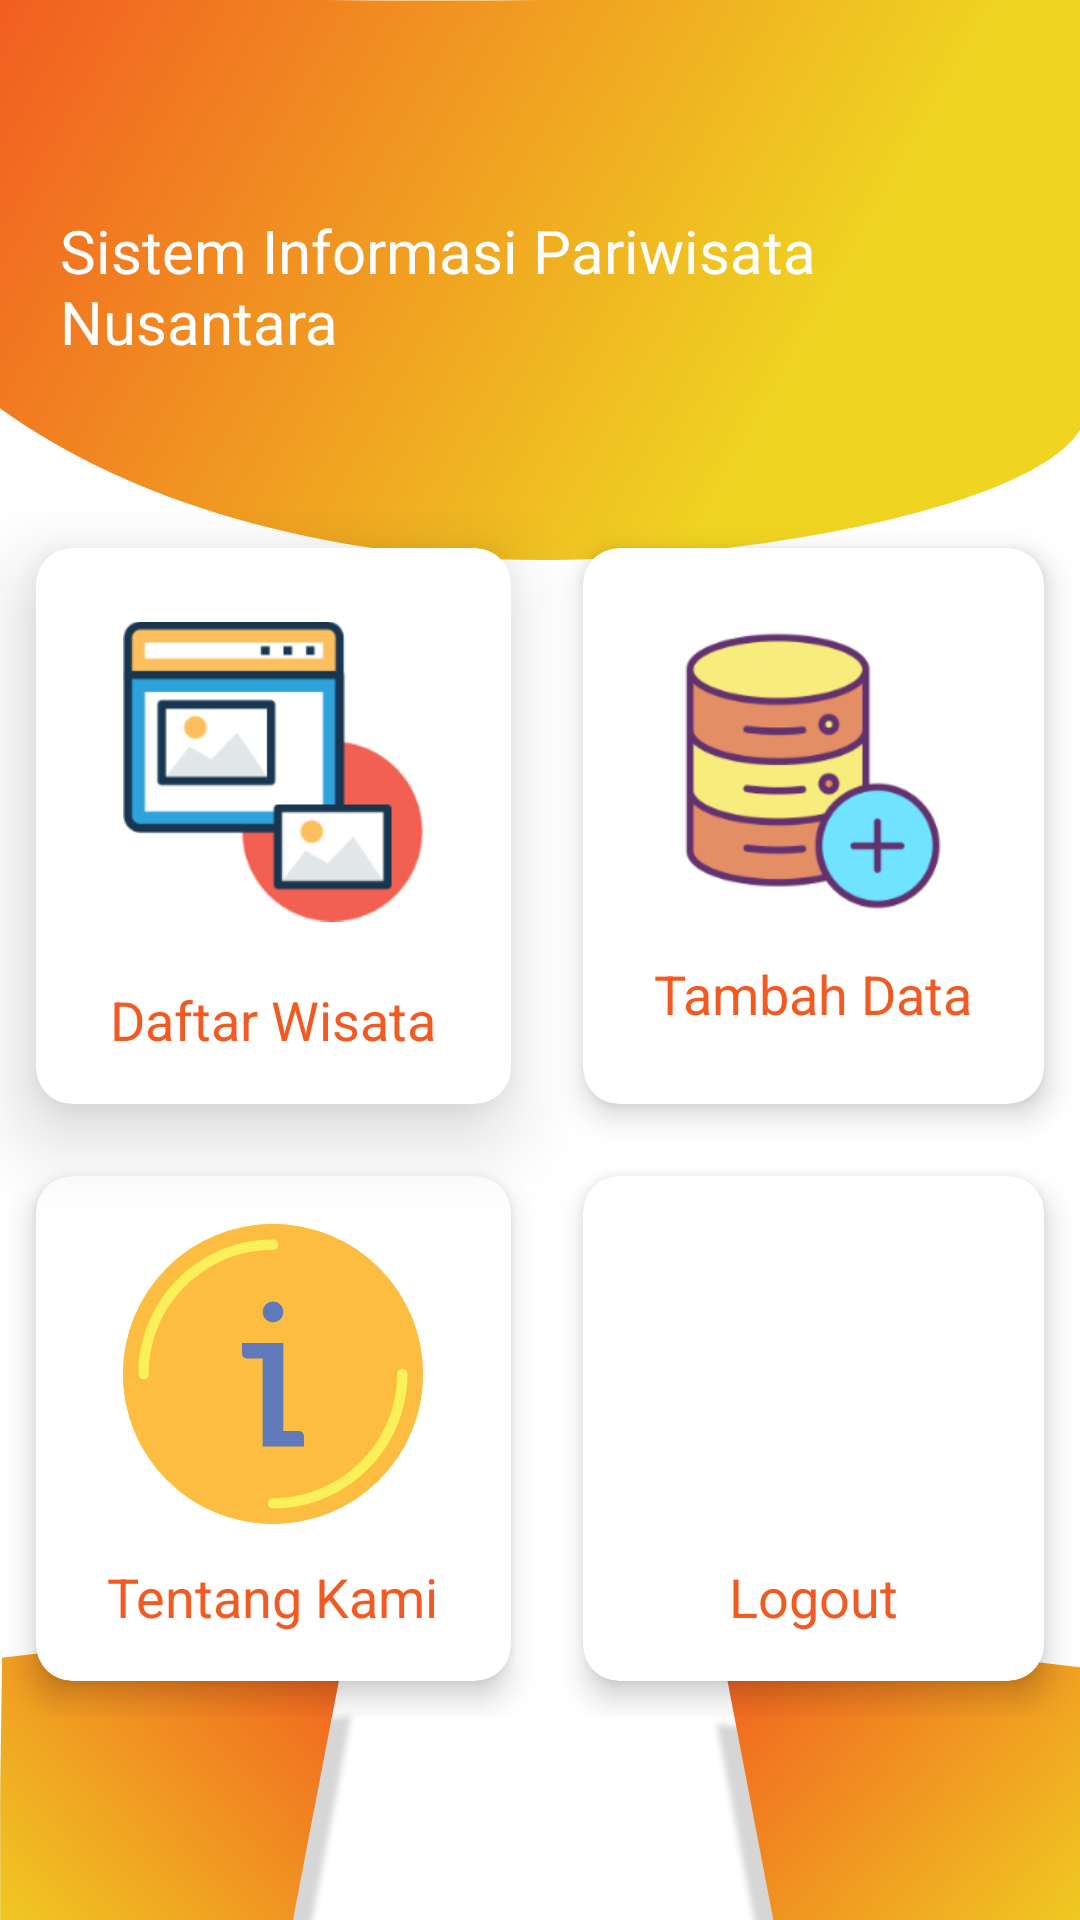

Icon click points for this 1080×1920 phone screenshot, format [x,y]:
database: [813,771]
info: [273,1374]
viewer: [273,772]
